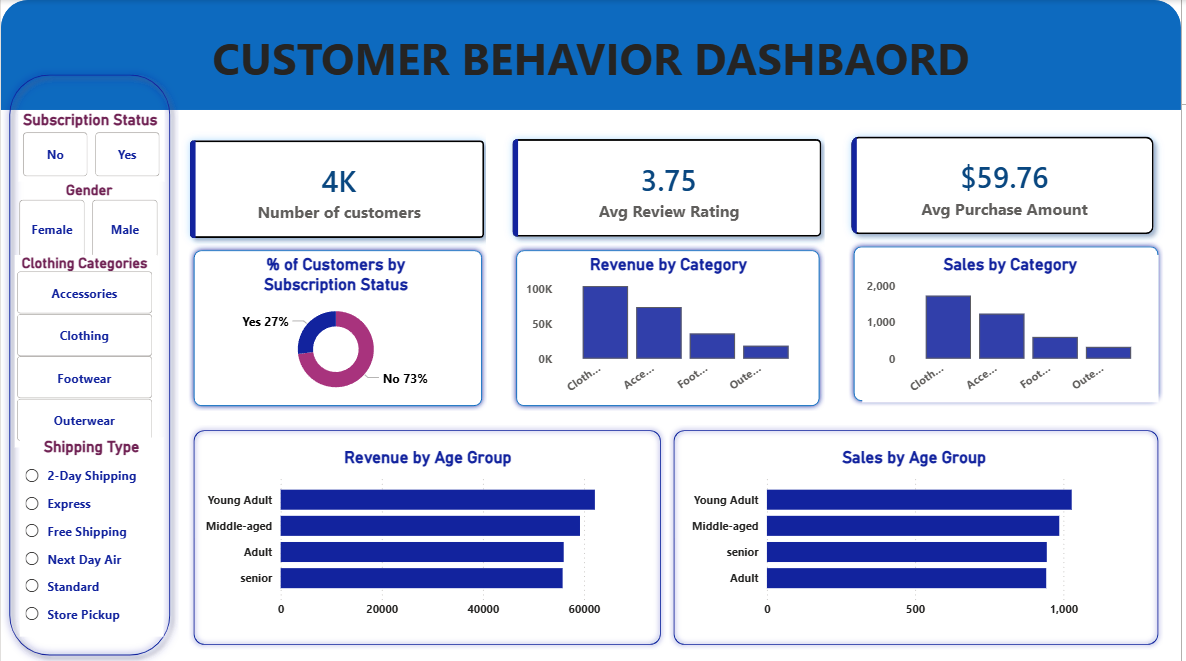

The dashboard page shown, as its layout file describes it:
{"tool":"powerbi","page":{"name":"Page 1","canvas":[1280,720],"ordinal":0},"visuals":[{"type":"cardVisual","fields":{"Data":["public customer_behavior.Number of customers"]},"box":[176.3,123.4,377,164.1],"z":0},{"type":"cardVisual","fields":{"Data":["public customer_behavior.Avg Review Rating"]},"box":[526.8,121.4,393.3,164.1],"z":1000},{"type":"cardVisual","fields":{"Data":["public customer_behavior.Avg Purchase Amount"]},"box":[893.8,119.3,386.5,164.1],"z":2000},{"type":"shape","box":[0,0,1280.3,119.3],"z":3000},{"type":"textbox","box":[0,24.7,1280.3,149.6],"z":4000},{"type":"shape","box":[203.4,265.8,324.1,180.4],"z":5000},{"type":"donutChart","title":"% of Customers by Subscription Status","fields":{"Category":["public customer_behavior.subscription_status"],"Y":["CountNonNull(public customer_behavior.customer_id)"]},"box":[215.6,276.7,295.7,160],"z":6000},{"type":"shape","box":[554,266.5,340.4,180.4],"z":7000},{"type":"shape","box":[919.5,261.8,341.8,179],"z":8000},{"type":"clusteredColumnChart","title":"Revenue by Category","fields":{"Y":["Sum(public customer_behavior.purchase_amount)"],"Category":["public customer_behavior.category"]},"box":[564.2,276.7,320.1,160],"z":9000},{"type":"clusteredColumnChart","title":"Sales by Category","fields":{"Category":["public customer_behavior.category"],"Y":["CountNonNull(public customer_behavior.customer_id)"]},"box":[934.4,276.7,321.4,160],"z":10000},{"type":"shape","box":[0,71.9,192.6,648.3],"z":10001},{"type":"advancedSlicerVisual","title":"Subscription Status","fields":{"Values":["public customer_behavior.subscription_status"]},"box":[19,122.1,158.7,74.6],"z":10002},{"type":"advancedSlicerVisual","title":"Gender","fields":{"Values":["public customer_behavior.gender"]},"box":[14.9,196.7,161.4,88.2],"z":10003},{"type":"advancedSlicerVisual","title":"Clothing Categories","fields":{"Values":["public customer_behavior.category"]},"box":[14.9,276.7,154.6,198],"z":10004},{"type":"listSlicer","title":"Shipping Type","fields":{"Values":["public customer_behavior.shipping_type"]},"box":[20.3,474.7,156,215.6],"z":10005},{"type":"clusteredBarChart","title":"Revenue by Age Group","fields":{"Y":["Sum(public customer_behavior.purchase_amount)"],"Category":["public customer_behavior.age_group"]},"box":[215.6,485.5,495,193.9],"z":10006},{"type":"shape","box":[724.2,461.1,537.1,244.1],"z":10007},{"type":"shape","box":[203.4,461.1,518.1,244.1],"z":10008},{"type":"clusteredBarChart","title":"Sales by Age Group","fields":{"Category":["public customer_behavior.age_group"],"Y":["CountNonNull(public customer_behavior.customer_id)"]},"box":[743.2,485.5,495,193.9],"z":10009}]}

Visuals, with their boxes in screenshot pixels (x1, y1, x2, y2), scaled from the page's 1280x720 canvas onto the 1186x661 screenshot:
cardVisual - public customer_behavior.Number of customers: box=[163, 113, 513, 264]
cardVisual - public customer_behavior.Avg Review Rating: box=[488, 111, 853, 262]
cardVisual - public customer_behavior.Avg Purchase Amount: box=[828, 110, 1185, 260]
shape: box=[0, 0, 1185, 110]
textbox: box=[0, 23, 1185, 160]
shape: box=[188, 244, 489, 410]
"% of Customers by Subscription Status" donutChart: box=[200, 254, 474, 401]
shape: box=[513, 245, 829, 410]
shape: box=[852, 240, 1169, 405]
"Revenue by Category" clusteredColumnChart: box=[523, 254, 819, 401]
"Sales by Category" clusteredColumnChart: box=[866, 254, 1164, 401]
shape: box=[0, 66, 178, 660]
"Subscription Status" advancedSlicerVisual: box=[18, 112, 165, 181]
"Gender" advancedSlicerVisual: box=[14, 181, 163, 262]
"Clothing Categories" advancedSlicerVisual: box=[14, 254, 157, 436]
"Shipping Type" listSlicer: box=[19, 436, 163, 634]
"Revenue by Age Group" clusteredBarChart: box=[200, 446, 658, 624]
shape: box=[671, 423, 1169, 647]
shape: box=[188, 423, 669, 647]
"Sales by Age Group" clusteredBarChart: box=[689, 446, 1147, 624]
